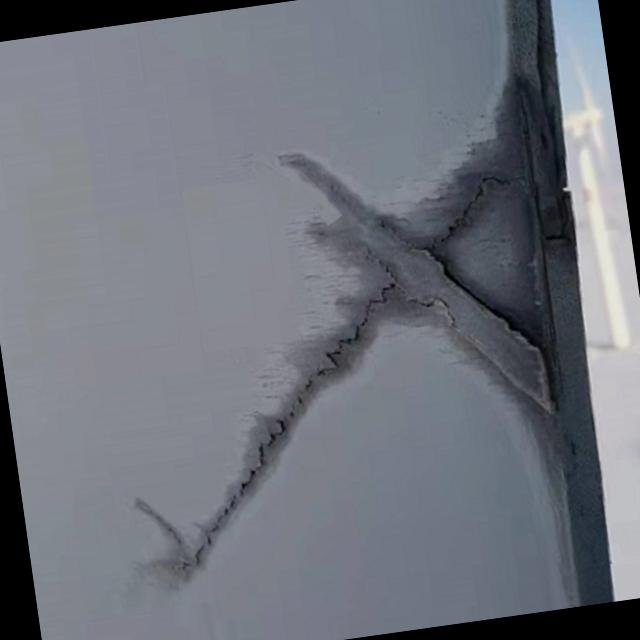crack: (142, 185, 567, 570)
